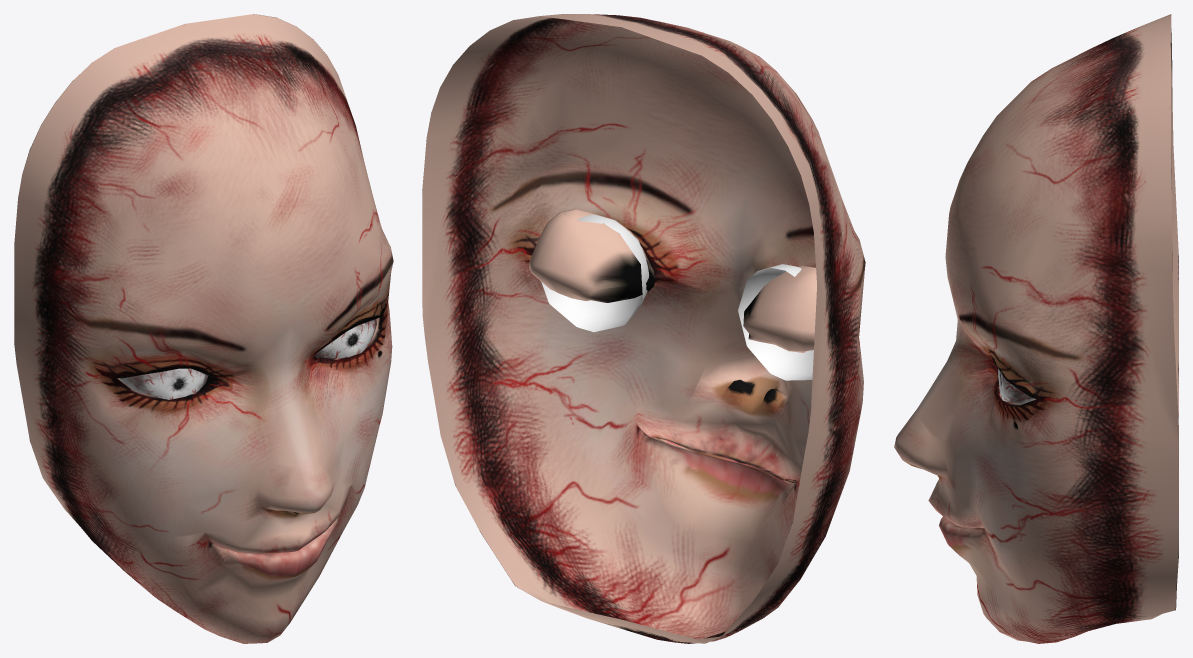
File: 9F_smile.FBX
3 views of the same model, side by side, from view 1: azimuth 30°, elevation 25°; view 2: azimuth 150°, elevation 25°; view 3: azimuth 270°, elevation 25° (orthographic). The views are drawn at different scales.
Parts seen in each view (by area): view 1: laugh; view 2: laugh; view 3: laugh.
Boxes of the visible parts, x1,y1,x2,y2 form: laugh: (14, 14, 393, 643); laugh: (422, 14, 865, 643); laugh: (894, 14, 1178, 643).
Bounding box in the file's own units: 109 × 175 × 76.2.
